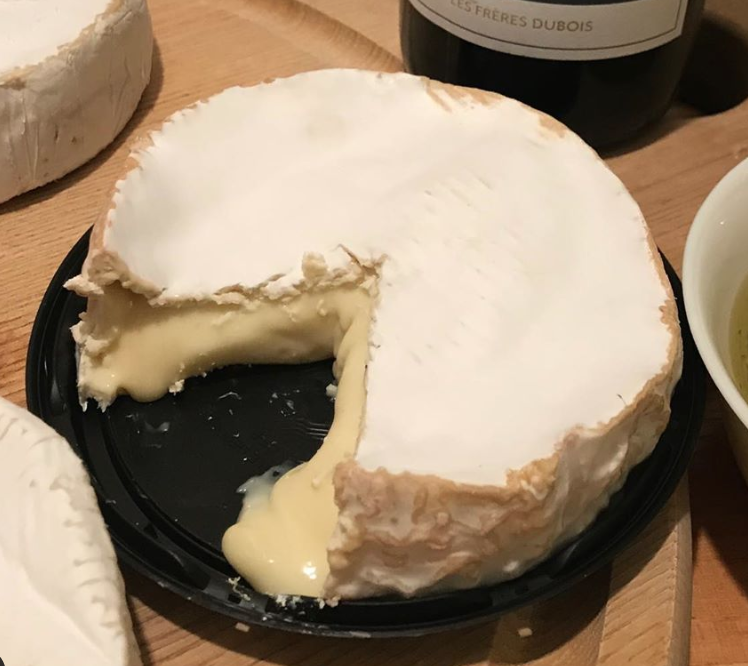camembert: (62, 68, 685, 605)
